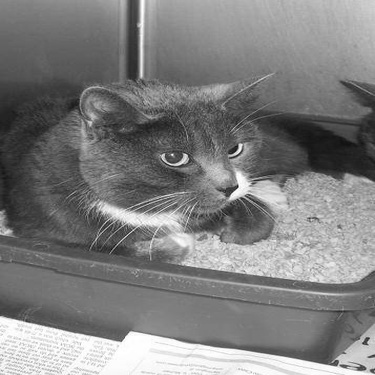cat: (3, 66, 307, 269), (338, 75, 373, 163)
